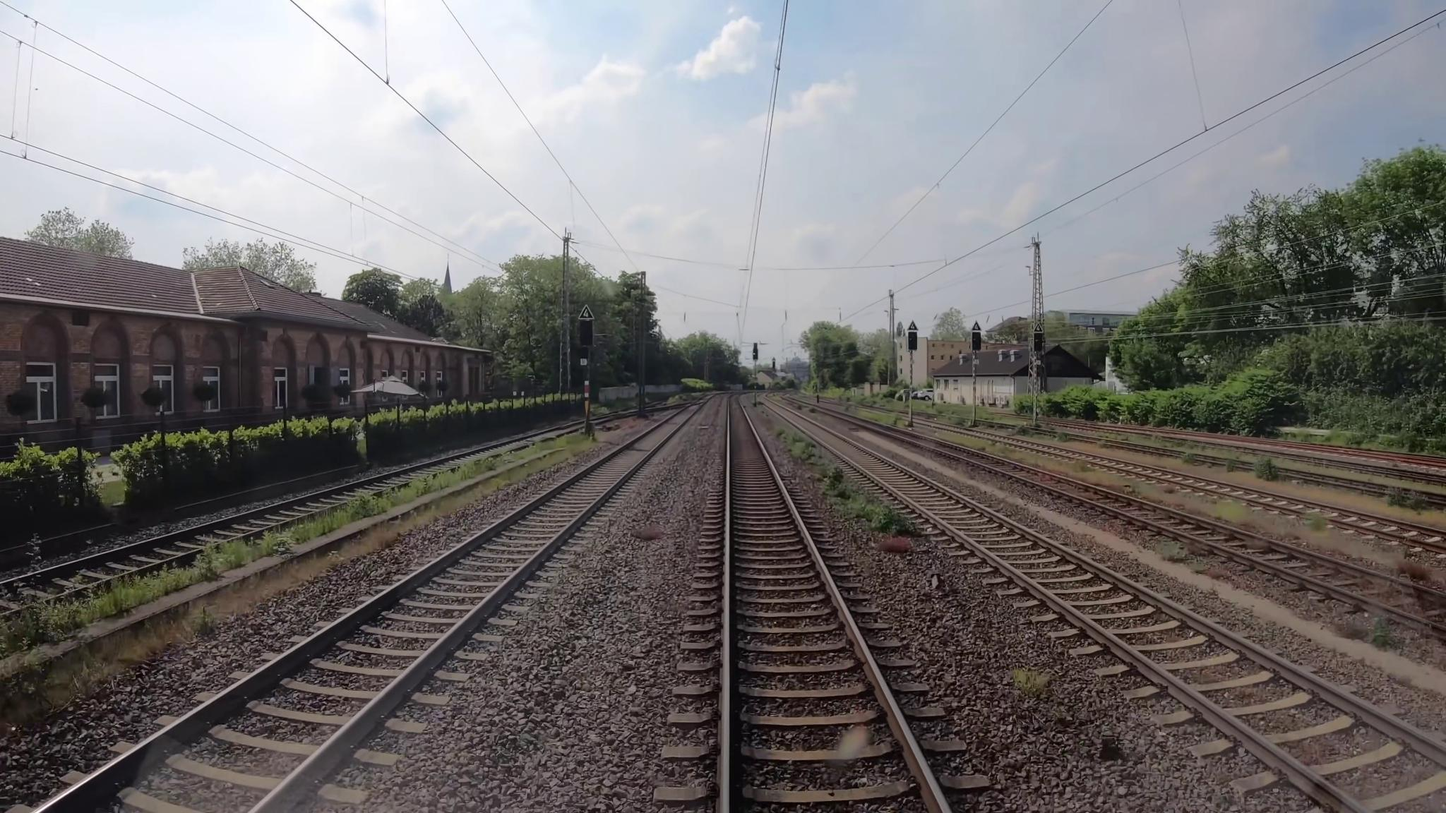Plant: (5, 431, 603, 723), (773, 431, 935, 540), (1013, 668, 1062, 710), (1383, 486, 1429, 514), (1252, 462, 1282, 484)
